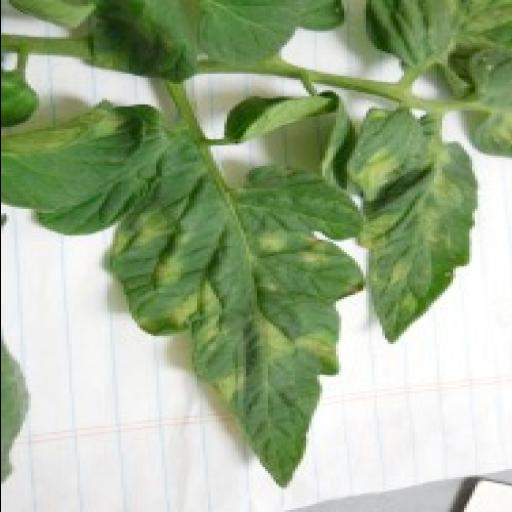Leaf Mold: (104, 164, 362, 492), (345, 106, 475, 344)
